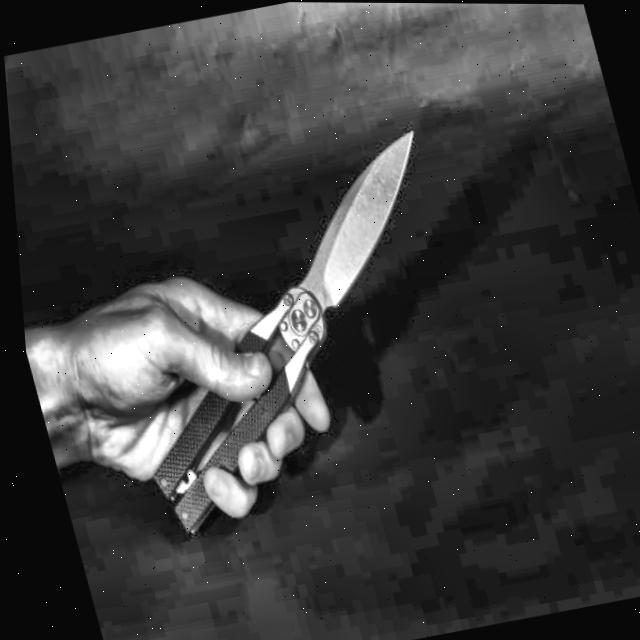pisau: (131, 120, 426, 548)
